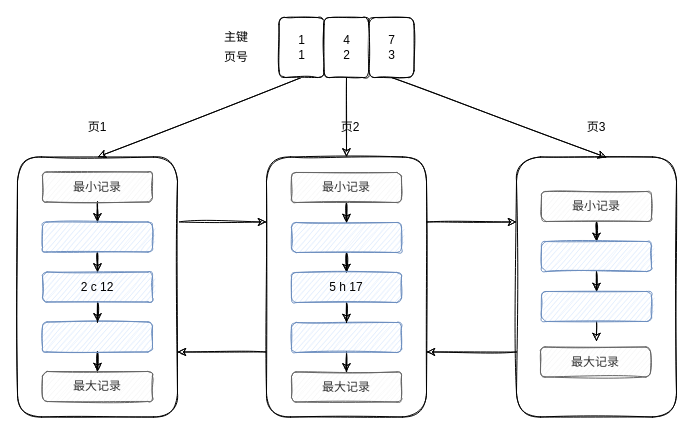
The diagram is 694 pixels wide and 435 high, and some of its shapes have lost their labels. The shapes that lost their labels are listed below. From the top down, each one's centre as x and y in pixels, then its label:
At (x=97, y=236): "1 a 10".
At (x=346, y=237): "4 d 15".
At (x=596, y=256): "7 k 12".
At (x=596, y=306): "8 x 9".
At (x=97, y=336): "3 b 9".
At (x=346, y=337): "6 l 13".
